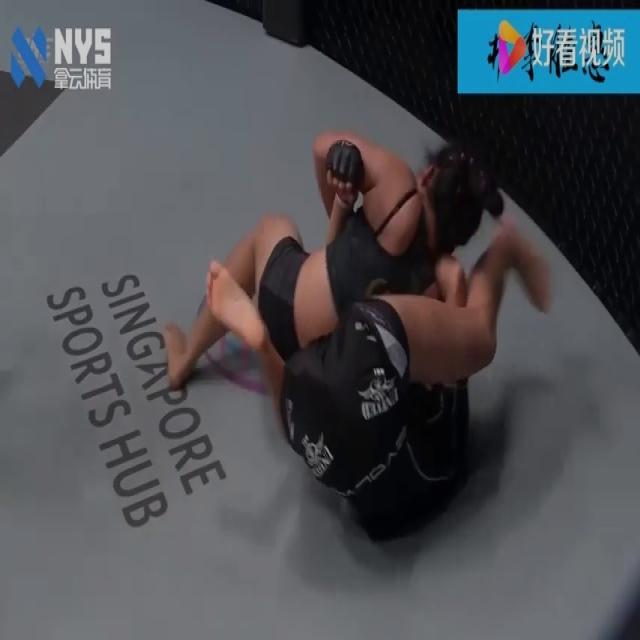fight: (161, 121, 561, 542)
